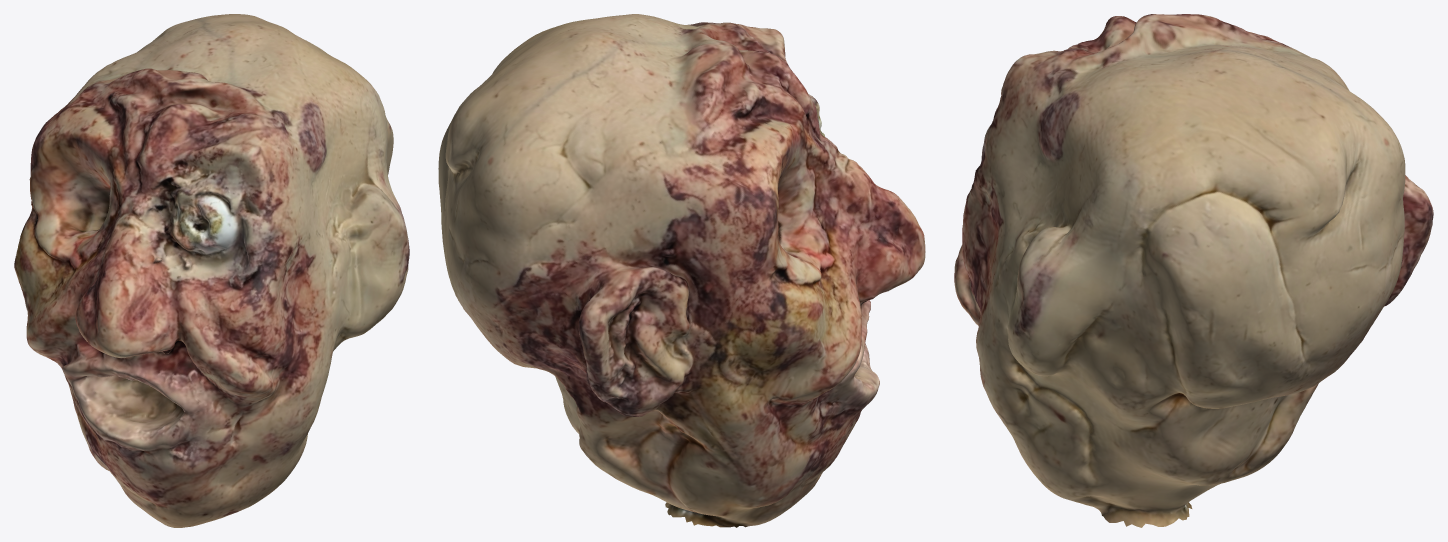
Rendered from frame4Scan_Full.fbx.
The picture shows the model from 3 angles, left to right: view 1: azimuth 30°, elevation 25°; view 2: azimuth 150°, elevation 25°; view 3: azimuth 270°, elevation 25°; orthographic projection. The views are drawn at different scales.
Visible parts, largest first — view 1: 3DModel; view 2: 3DModel; view 3: 3DModel.
Boxes of the visible parts, x1,y1,x2,y2 form: 3DModel: [14, 14, 409, 527]; 3DModel: [438, 14, 925, 527]; 3DModel: [954, 14, 1433, 527].
Bounding box in the file's own units: 17.62 × 20.29 × 17.67.
1 material, 1 textured.
